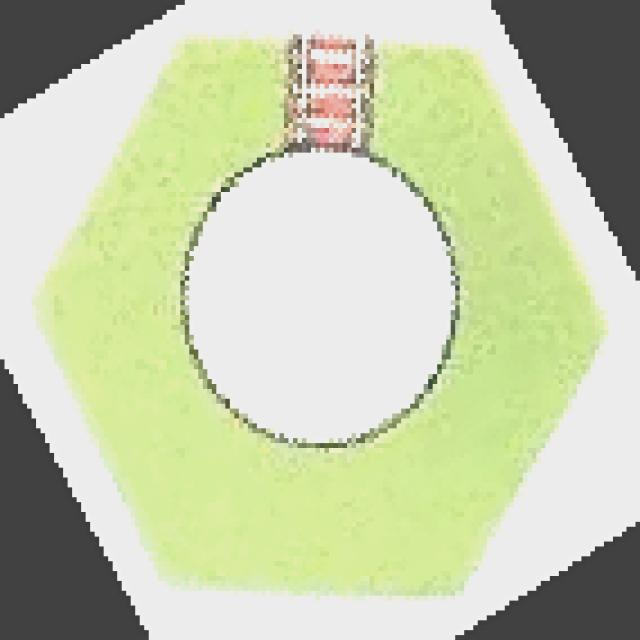13_5: (42, 31, 608, 592)
